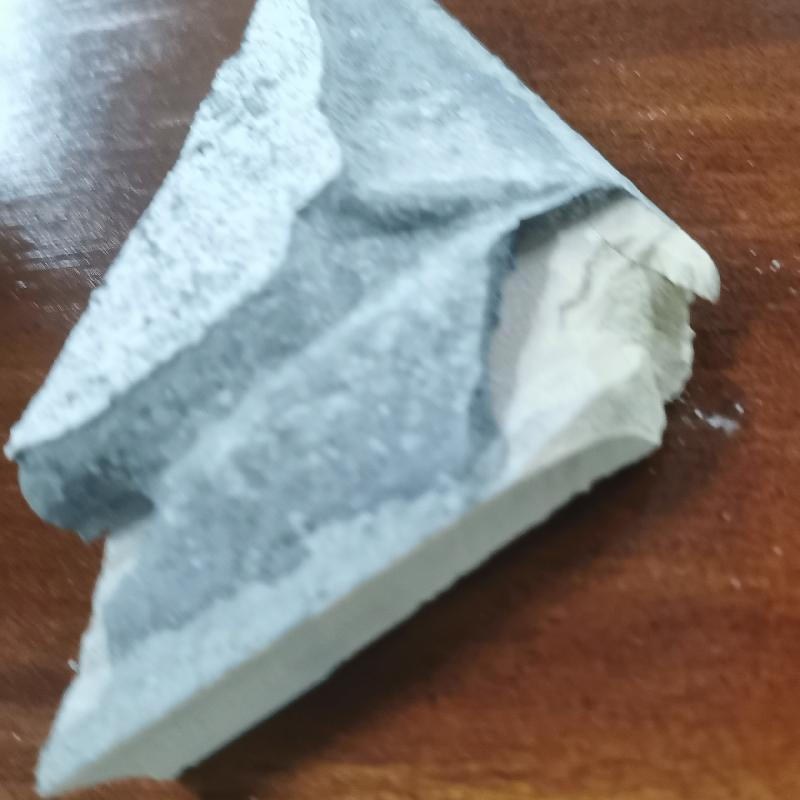tile: (11, 6, 717, 793)
